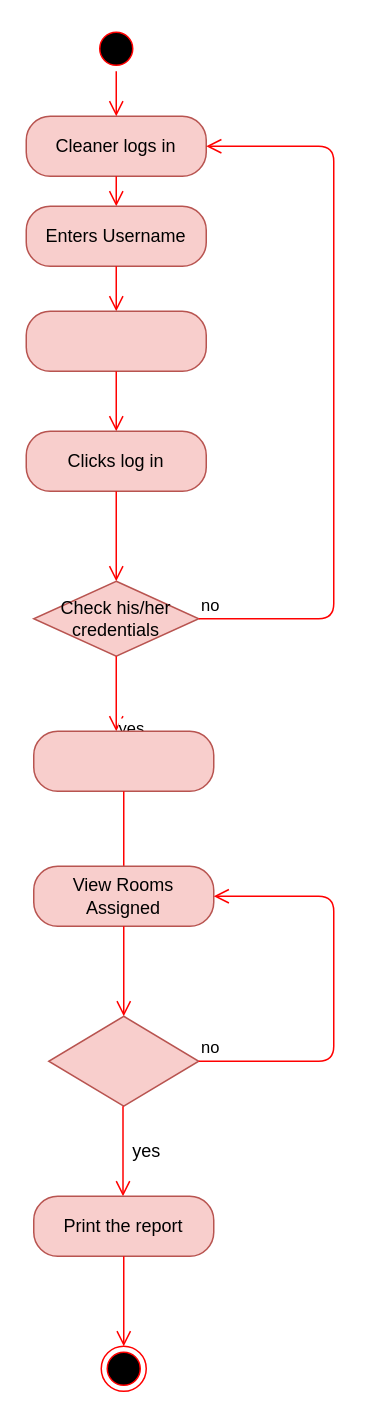
This 375x1418 diagram has some shape labels left out. The box of each missing label's shape, as (x1, y1, x2, y2) in pixels:
Enters dashboard: (32, 730, 214, 791)
Enters Password: (25, 310, 206, 371)
There are no rooms assigned: (47, 1015, 199, 1106)
